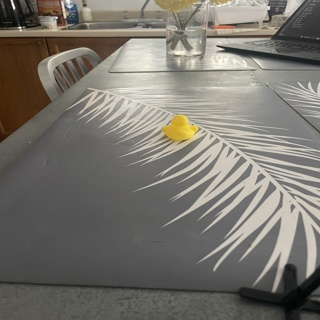duck_regular: (159, 114, 197, 138)
